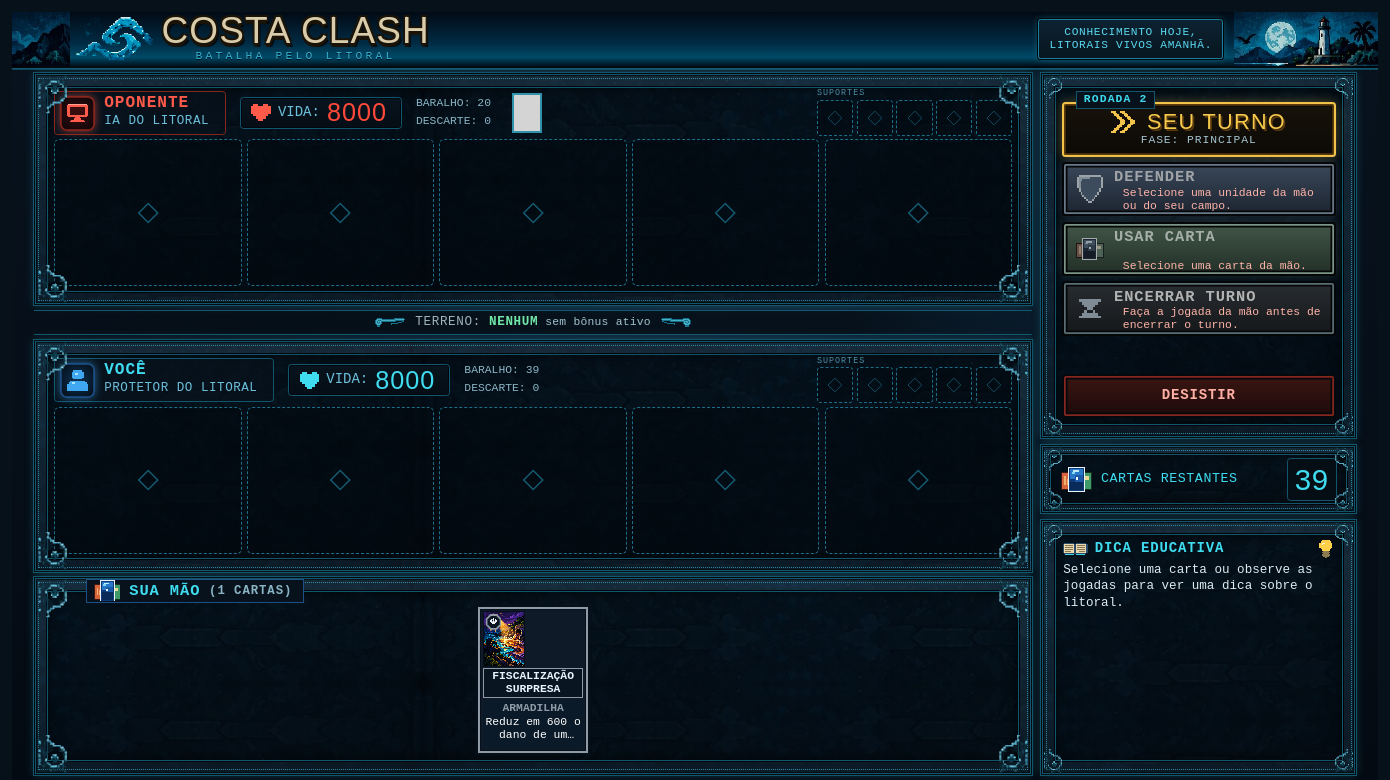
it: Arrastar: outros tipos de carta › armadilha solta numa zona de unidade: motivo, sem alterar nada
Press the mouse on the button with aria-label "Mão 1:" at (533, 680), box [478,607,588,753]
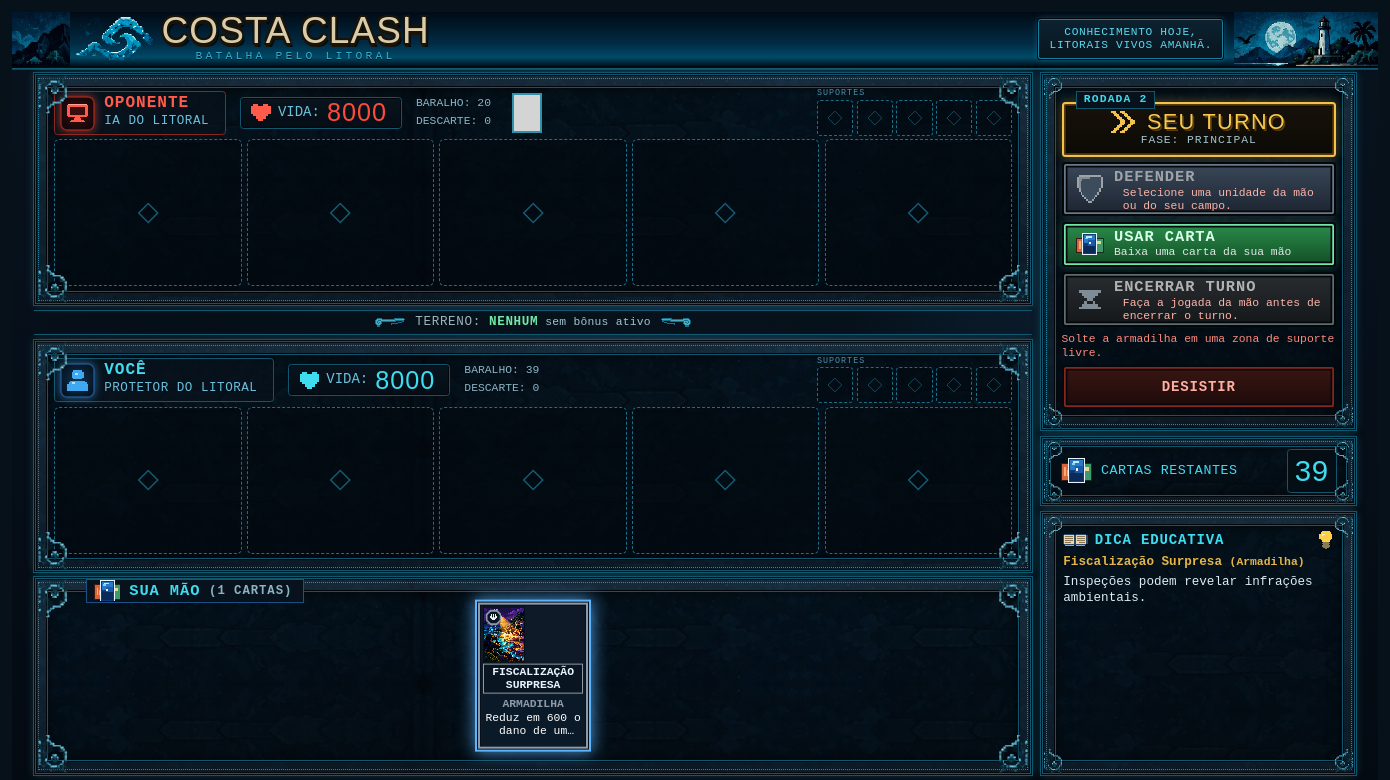
Expected: the message with class "duelo-aviso" reads "Solte a armadilha em uma zona de suporte livre.", [1062,333,1334,359]
